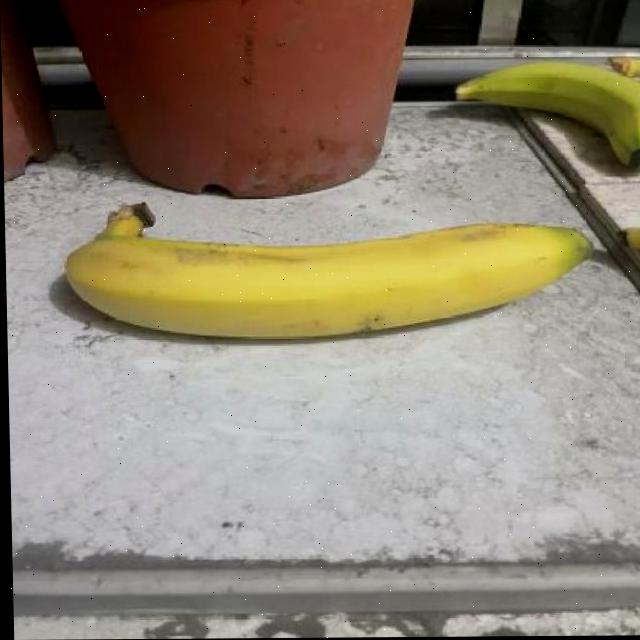banana: (45, 194, 596, 347), (436, 45, 640, 173)
